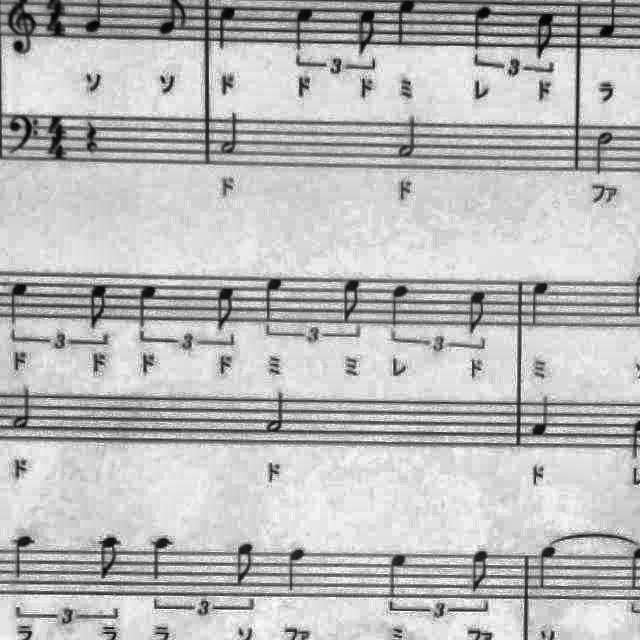Bass-clef: (2, 109, 42, 161)
Eighth-note: (208, 282, 242, 336), (528, 8, 560, 64), (460, 283, 492, 339), (351, 5, 383, 60), (336, 276, 368, 328), (84, 280, 116, 332), (94, 532, 126, 584), (465, 544, 495, 596), (231, 538, 261, 590)
Half-note: (590, 126, 620, 182), (392, 112, 423, 164), (262, 387, 294, 437), (7, 383, 37, 433), (216, 108, 244, 160)
Quarter-note: (256, 274, 292, 326), (524, 275, 556, 331), (286, 2, 320, 54), (146, 532, 180, 584), (8, 531, 40, 585), (384, 278, 416, 332), (466, 2, 498, 54), (2, 275, 34, 327), (132, 280, 164, 332), (214, 3, 246, 55), (531, 542, 563, 594), (281, 542, 311, 596), (391, 0, 424, 48), (382, 548, 412, 600), (530, 392, 560, 443), (595, 0, 627, 42)
Quarter-rest: (81, 116, 105, 158)
